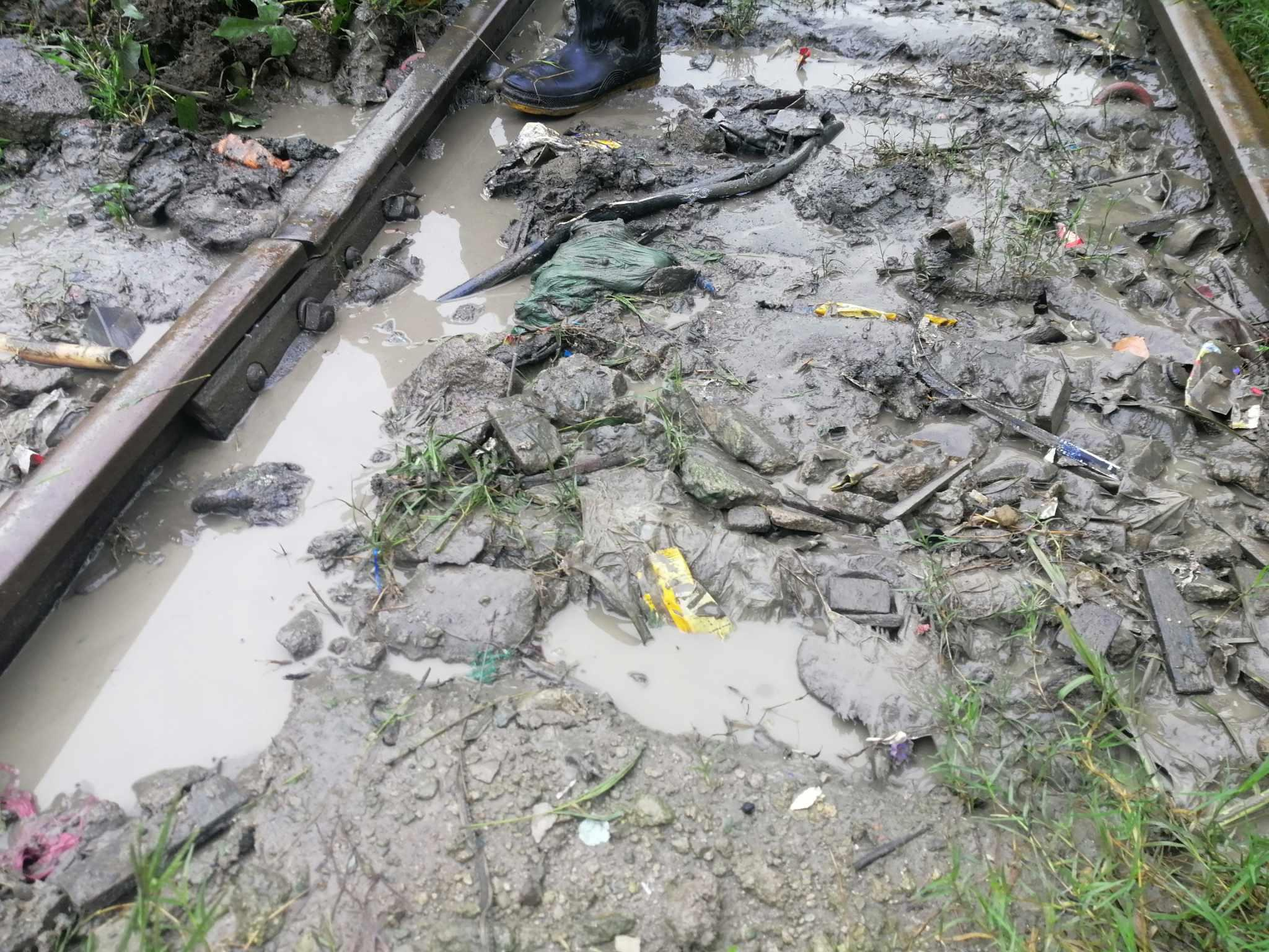railway-gap: (226, 177, 346, 298)
